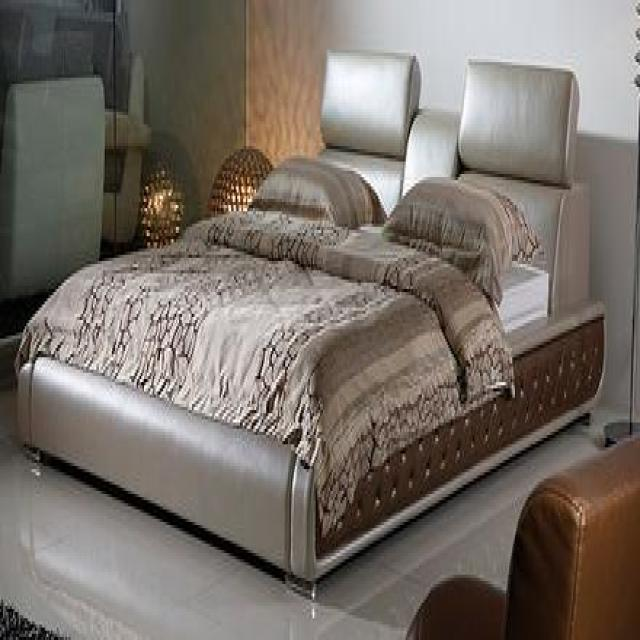bed: (15, 46, 611, 594)
